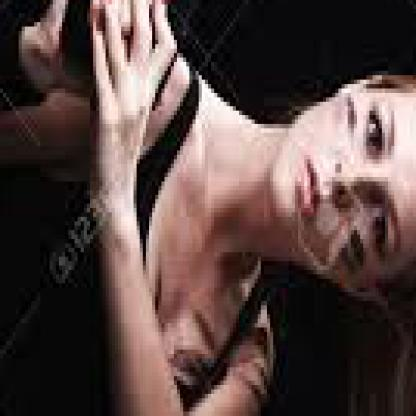gun: (44, 0, 252, 142)
